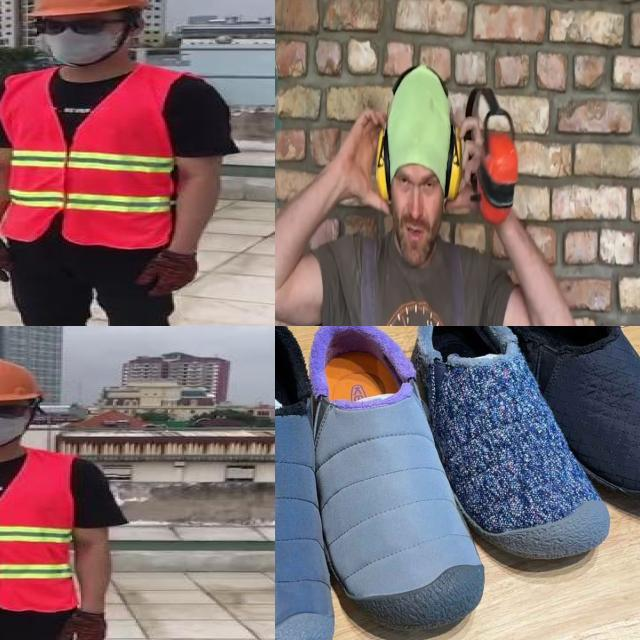Ear-protection: (372, 64, 467, 256)
No_Glasses: (392, 154, 438, 204)
Sandals: (275, 326, 509, 640), (393, 326, 628, 587), (473, 326, 640, 514), (275, 326, 350, 640)
face_mask: (34, 14, 124, 66), (0, 399, 28, 445)
glasses: (28, 14, 121, 38), (0, 396, 33, 423)
hand_glove: (136, 250, 198, 298), (59, 611, 107, 640), (0, 238, 13, 284)
head_helmet: (0, 356, 46, 405), (26, 0, 145, 15)
person: (0, 0, 239, 326), (0, 354, 133, 640)
vest: (0, 66, 179, 249), (0, 450, 79, 615)
